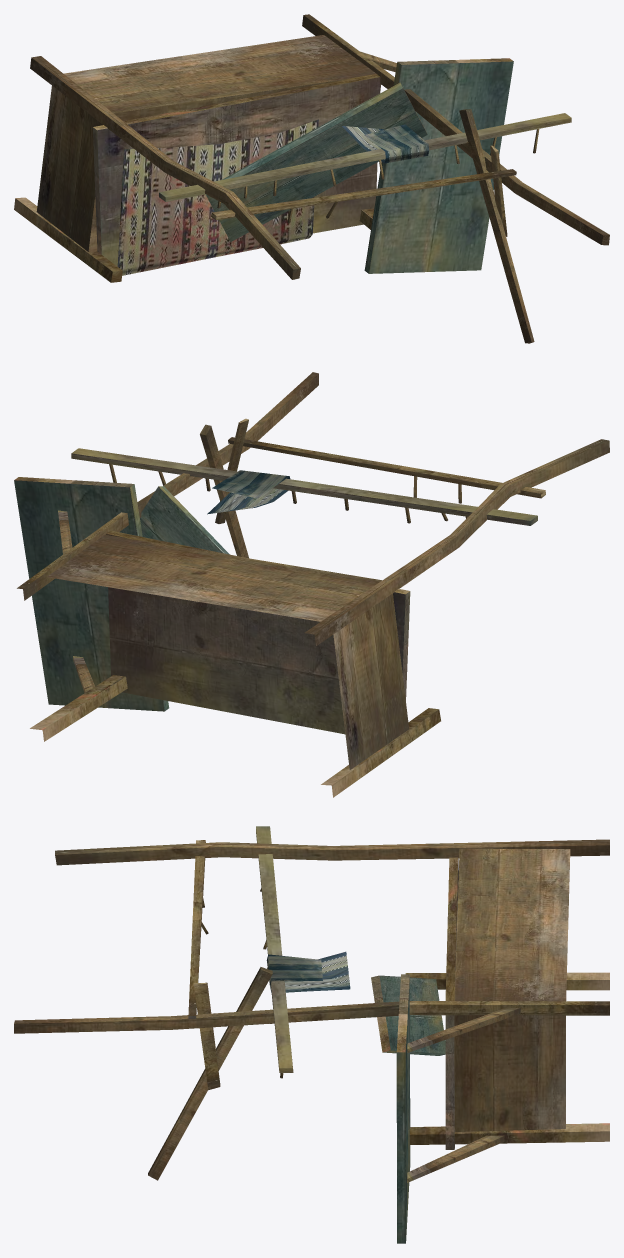
File: prop_market_stands6.glb
The picture shows the model from 3 angles, top to bottom: view 1: azimuth 30°, elevation 25°; view 2: azimuth 150°, elevation 25°; view 3: azimuth 270°, elevation 25°; orthographic projection. The views are drawn at different scales.
Size of the model in its own units: 90.26 by 47.2 by 108.
1 material, 1 textured.
